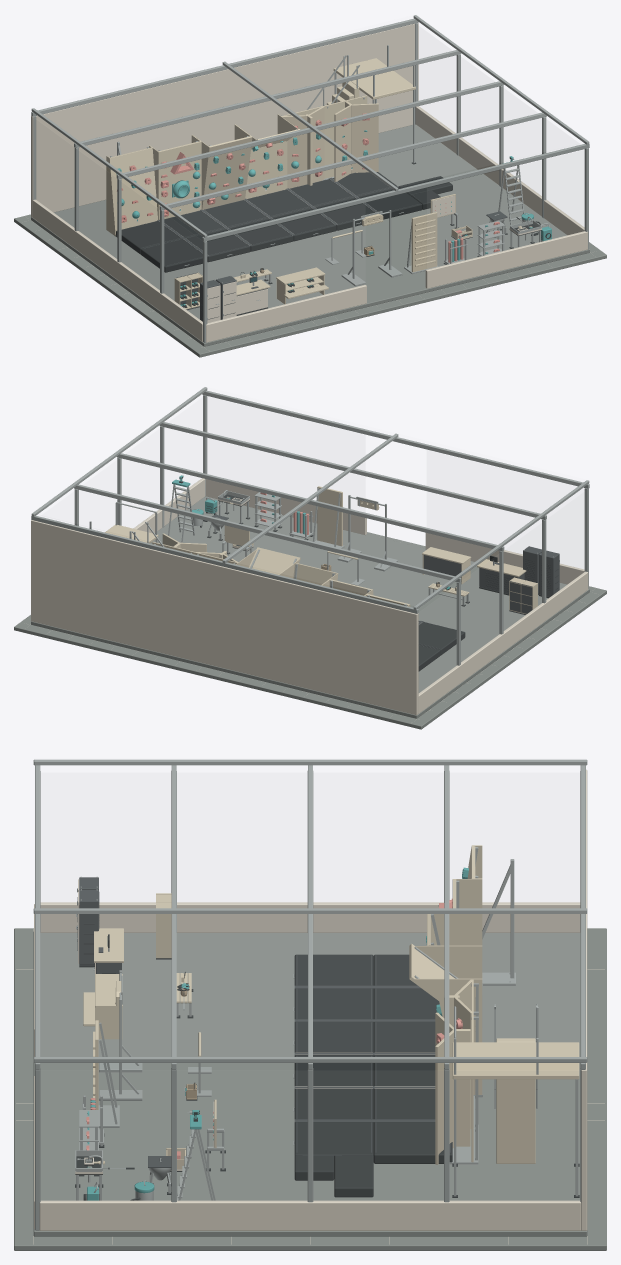
File: indoor-climbing-and-bouldering-gym-indoo-1ef187b1-starter-scene__31563.glb
3 views of the same model, one above another, from view 1: azimuth 30°, elevation 25°; view 2: azimuth 150°, elevation 25°; view 3: azimuth 270°, elevation 25° (orthographic). The views are drawn at different scales.
Parts seen in each view (by area): view 1: 001-indoor-climbing-and-bouldering-gym-roofed-bouldering-gym (×4), 000-indoor-climbing-and-bouldering-gym-bouldering-gym-floor-, 007-indoor-climbing-and-bouldering-gym-dihedral-wall-corner/, 002-indoor-climbing-and-bouldering-gym-slab-wall-panel/0, 004-indoor-climbing-and-bouldering-gym-overhang-wall-panel/0, 006-indoor-climbing-and-bouldering-gym-arete-wall-corner/0, 003-indoor-climbing-and-bouldering-gym-vertical-wall-panel/0, 005-indoor-climbing-and-bouldering-gym-roof-transition-panel, 008-indoor-climbing-and-bouldering-gym-top-out-deck/2, 063-indoor-climbing-and-bouldering-gym-campus-training-board, 012-indoor-climbing-and-bouldering-gym-landing-mat-straight/, 055-indoor-climbing-and-bouldering-gym-shoe-hire-fitting-cou (+19 smaller); view 2: 001-indoor-climbing-and-bouldering-gym-roofed-bouldering-gym (×4), 000-indoor-climbing-and-bouldering-gym-bouldering-gym-floor-, 063-indoor-climbing-and-bouldering-gym-campus-training-board, 055-indoor-climbing-and-bouldering-gym-shoe-hire-fitting-cou (×2), 005-indoor-climbing-and-bouldering-gym-roof-transition-panel, 012-indoor-climbing-and-bouldering-gym-landing-mat-straight/, 004-indoor-climbing-and-bouldering-gym-overhang-wall-panel/0, 059-indoor-climbing-and-bouldering-gym-belongings-locker/1, 056-indoor-climbing-and-bouldering-gym-ventilated-shoe-cubby, 070-indoor-climbing-and-bouldering-gym-hold-drying-rack/0, 054-indoor-climbing-and-bouldering-gym-membership-reception-, 072-indoor-climbing-and-bouldering-gym-route-setting-ladder/ (+4 smaller); view 3: 001-indoor-climbing-and-bouldering-gym-roofed-bouldering-gym (×4), 000-indoor-climbing-and-bouldering-gym-bouldering-gym-floor-, 007-indoor-climbing-and-bouldering-gym-dihedral-wall-corner/ (×2), 008-indoor-climbing-and-bouldering-gym-top-out-deck/2, 009-indoor-climbing-and-bouldering-gym-rear-descent-stair/0, 005-indoor-climbing-and-bouldering-gym-roof-transition-panel, 021-indoor-climbing-and-bouldering-gym-landing-mat-straight/, 033-indoor-climbing-and-bouldering-gym-landing-mat-corner/0, 022-indoor-climbing-and-bouldering-gym-landing-mat-straight/, 014-indoor-climbing-and-bouldering-gym-landing-mat-straight/, 012-indoor-climbing-and-bouldering-gym-landing-mat-straight/, 016-indoor-climbing-and-bouldering-gym-landing-mat-straight/ (+20 smaller).
Boxes of the visible parts, bbox=[...] form: 001-indoor-climbing-and-bouldering-gym-roofed-bouldering-gym (×4): bbox=[31, 15, 589, 346]; 000-indoor-climbing-and-bouldering-gym-bouldering-gym-floor-: bbox=[14, 214, 606, 357]; 007-indoor-climbing-and-bouldering-gym-dihedral-wall-corner/: bbox=[324, 95, 378, 181]; 002-indoor-climbing-and-bouldering-gym-slab-wall-panel/0: bbox=[106, 145, 157, 236]; 004-indoor-climbing-and-bouldering-gym-overhang-wall-panel/0: bbox=[192, 124, 252, 209]; 006-indoor-climbing-and-bouldering-gym-arete-wall-corner/0: bbox=[281, 106, 324, 188]; 003-indoor-climbing-and-bouldering-gym-vertical-wall-panel/0: bbox=[150, 135, 201, 219]; 005-indoor-climbing-and-bouldering-gym-roof-transition-panel: bbox=[235, 114, 300, 198]; 008-indoor-climbing-and-bouldering-gym-top-out-deck/2: bbox=[333, 58, 415, 99]; 063-indoor-climbing-and-bouldering-gym-campus-training-board: bbox=[411, 212, 437, 272]; 012-indoor-climbing-and-bouldering-gym-landing-mat-straight/: bbox=[141, 239, 207, 272]; 055-indoor-climbing-and-bouldering-gym-shoe-hire-fitting-cou: bbox=[276, 267, 328, 304]; 001-indoor-climbing-and-bouldering-gym-roofed-bouldering-gym (×4): bbox=[31, 387, 589, 718]; 000-indoor-climbing-and-bouldering-gym-bouldering-gym-floor-: bbox=[14, 532, 606, 729]; 063-indoor-climbing-and-bouldering-gym-campus-training-board: bbox=[317, 486, 342, 546]; 055-indoor-climbing-and-bouldering-gym-shoe-hire-fitting-cou (×2): bbox=[422, 547, 471, 584]; 005-indoor-climbing-and-bouldering-gym-roof-transition-panel: bbox=[236, 547, 300, 574]; 012-indoor-climbing-and-bouldering-gym-landing-mat-straight/: bbox=[418, 622, 465, 655]; 004-indoor-climbing-and-bouldering-gym-overhang-wall-panel/0: bbox=[279, 562, 338, 585]; 059-indoor-climbing-and-bouldering-gym-belongings-locker/1: bbox=[539, 550, 559, 596]; 056-indoor-climbing-and-bouldering-gym-ventilated-shoe-cubby: bbox=[509, 581, 532, 614]; 070-indoor-climbing-and-bouldering-gym-hold-drying-rack/0: bbox=[254, 492, 281, 530]; 054-indoor-climbing-and-bouldering-gym-membership-reception-: bbox=[479, 562, 524, 593]; 072-indoor-climbing-and-bouldering-gym-route-setting-ladder/: bbox=[168, 484, 194, 542]; 001-indoor-climbing-and-bouldering-gym-roofed-bouldering-gym (×4): bbox=[33, 759, 587, 1236]; 000-indoor-climbing-and-bouldering-gym-bouldering-gym-floor-: bbox=[14, 928, 606, 1250]; 007-indoor-climbing-and-bouldering-gym-dihedral-wall-corner/ (×2): bbox=[435, 1012, 478, 1164]; 008-indoor-climbing-and-bouldering-gym-top-out-deck/2: bbox=[452, 1042, 579, 1079]; 009-indoor-climbing-and-bouldering-gym-rear-descent-stair/0: bbox=[496, 1038, 535, 1163]; 005-indoor-climbing-and-bouldering-gym-roof-transition-panel: bbox=[409, 943, 482, 1094]; 021-indoor-climbing-and-bouldering-gym-landing-mat-straight/: bbox=[373, 1122, 452, 1163]; 033-indoor-climbing-and-bouldering-gym-landing-mat-corner/0: bbox=[294, 1155, 373, 1197]; 022-indoor-climbing-and-bouldering-gym-landing-mat-straight/: bbox=[294, 1122, 373, 1155]; 014-indoor-climbing-and-bouldering-gym-landing-mat-straight/: bbox=[294, 988, 373, 1022]; 012-indoor-climbing-and-bouldering-gym-landing-mat-straight/: bbox=[294, 954, 373, 985]; 016-indoor-climbing-and-bouldering-gym-landing-mat-straight/: bbox=[294, 1022, 373, 1052].
Bounding box in the file's own units: 19 × 5.15 × 15.
